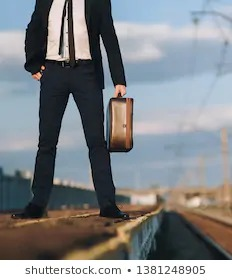F_dress pants: (29, 52, 121, 207)
